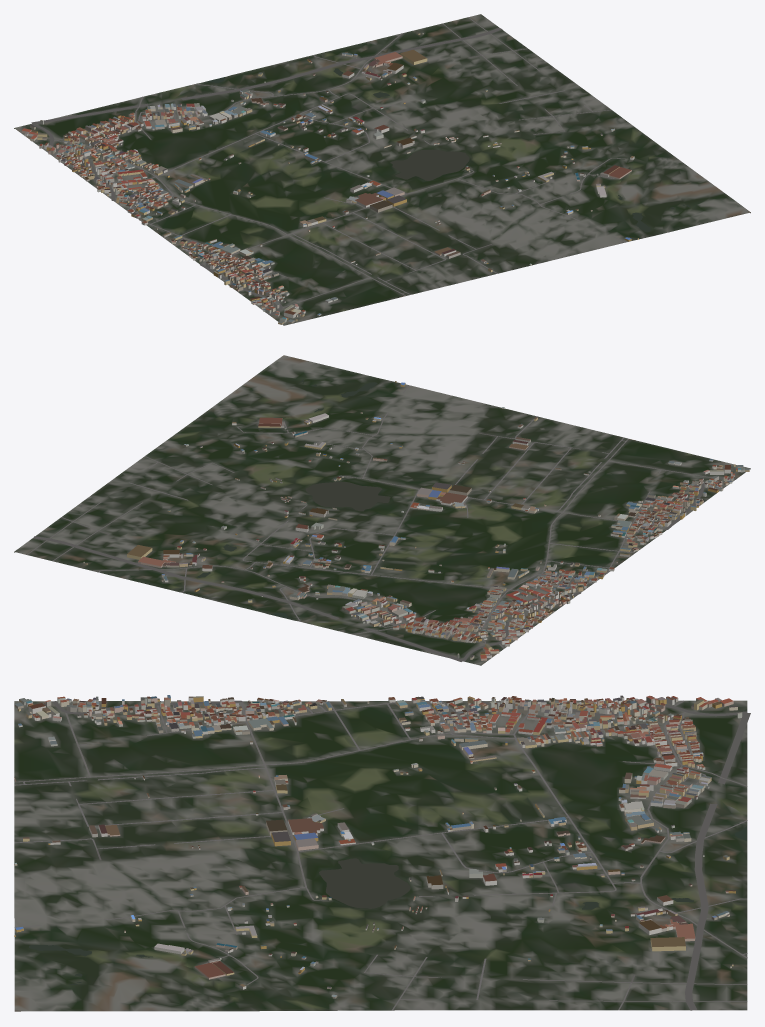
3 views of the same model, one above another, from view 1: azimuth 30°, elevation 25°; view 2: azimuth 150°, elevation 25°; view 3: azimuth 270°, elevation 25° (orthographic). The views are drawn at different scales.
Parts seen in each view (by area): view 1: ground, buildings, roads, water; view 2: ground, buildings, roads, water; view 3: ground, buildings, roads, water.
Part boxes in pixels (x1,y1,x2,y2): ground: (14,14,750,325); buildings: (21,32,638,324); roads: (31,17,625,315); water: (204,68,690,232); ground: (14,355,750,665); buildings: (83,381,749,660); roads: (26,385,736,661); water: (197,379,390,619); ground: (14,700,747,1011); buildings: (14,695,742,998); roads: (14,700,750,1010); water: (29,826,746,984).
Bounding box in the file's own units: 1411 × 24.75 × 1410.
